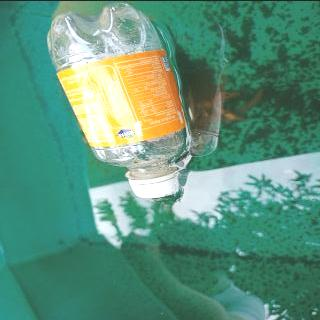bottle: (42, 0, 189, 201)
